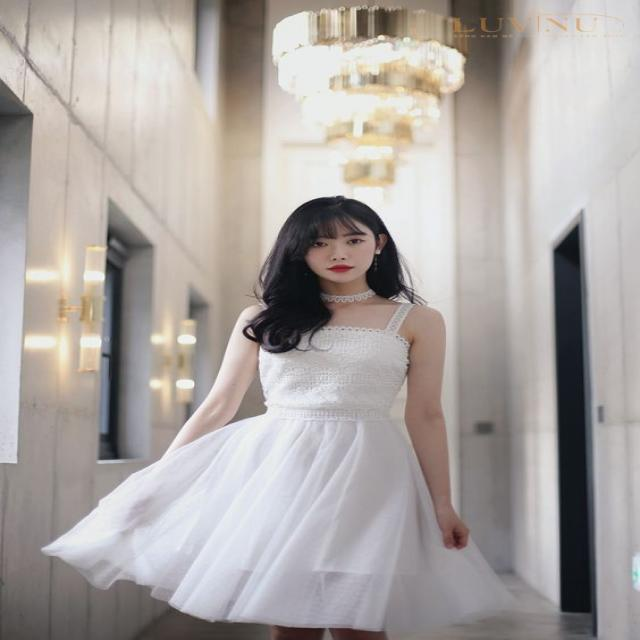clothes: (53, 299, 514, 629)
